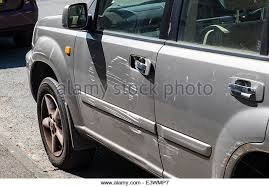Dent: (111, 116, 146, 138)
Scratch: (89, 54, 146, 102), (220, 140, 261, 168), (24, 43, 55, 78), (151, 136, 180, 160), (186, 74, 190, 81)
